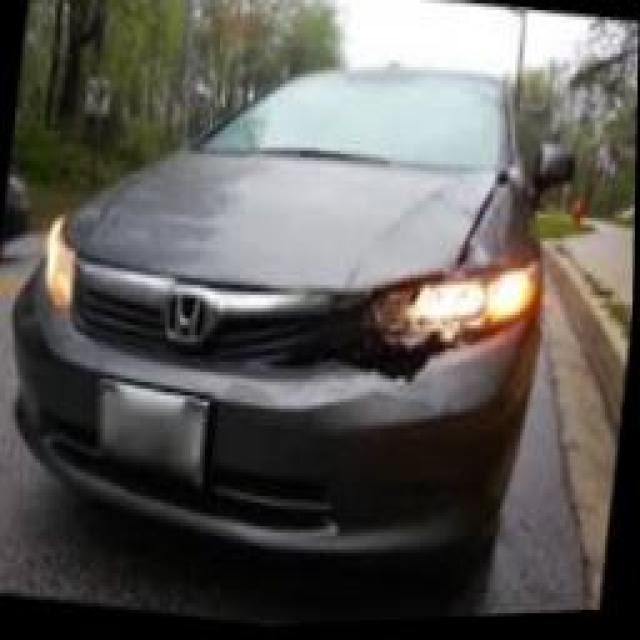Bumper: (220, 316, 524, 449)
Light: (369, 263, 537, 342)
